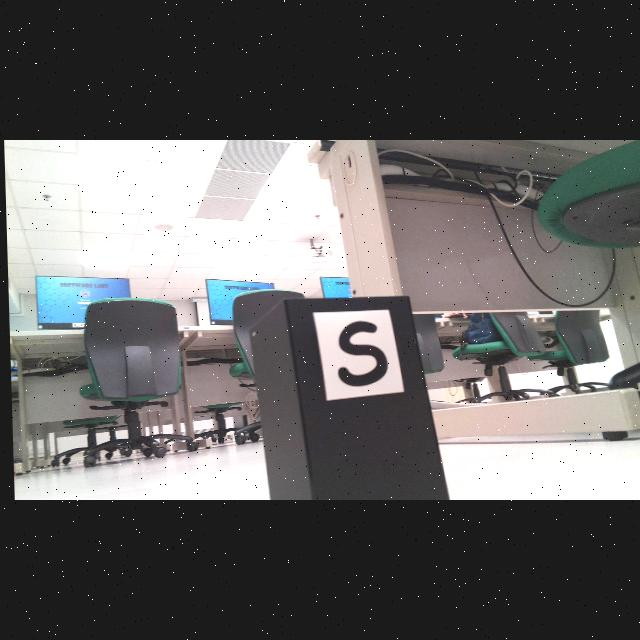S: (335, 322, 386, 386)
